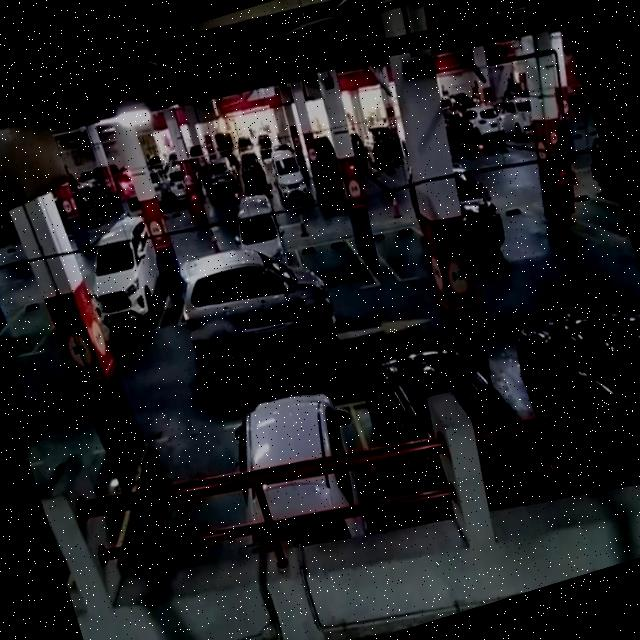empty: (117, 414, 267, 572), (27, 434, 137, 580), (294, 226, 381, 306), (371, 217, 436, 288)
occupied: (346, 339, 533, 530), (229, 384, 393, 554), (76, 216, 176, 345)
